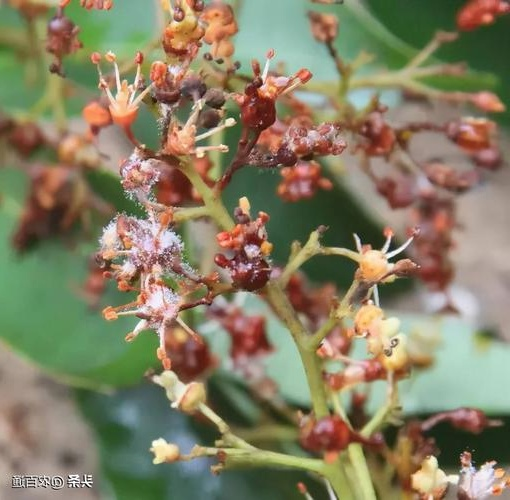Frost_Blight: (120, 35, 312, 402), (337, 207, 407, 430)
